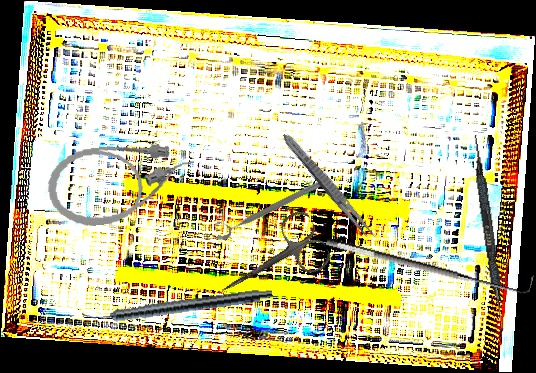Cannula: (43, 136, 201, 231)
Dressing Forceps: (278, 130, 380, 243)
Fixation Ring: (210, 169, 329, 243)
Handpiece: (81, 283, 274, 328)
Hook Surgical: (325, 221, 534, 302)
Iris Scissors: (206, 207, 335, 317)
Spatula Surgical: (467, 134, 511, 338)
